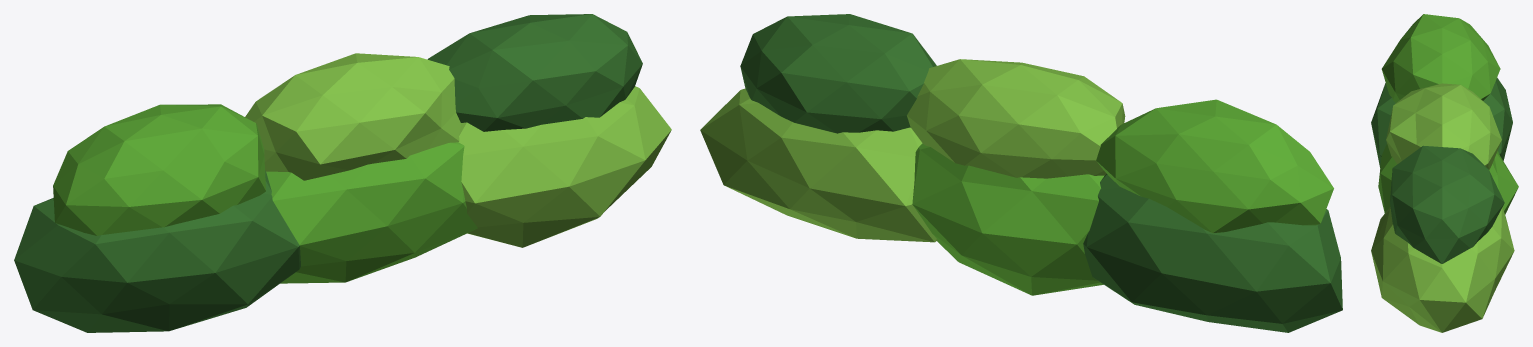
Rendered from hedge_straight_1.glb.
The picture shows the model from 3 angles, left to right: view 1: azimuth 30°, elevation 25°; view 2: azimuth 150°, elevation 25°; view 3: azimuth 270°, elevation 25°; orthographic projection. The views are drawn at different scales.
Visible parts, largest first — view 1: hedge_straight_1; view 2: hedge_straight_1; view 3: hedge_straight_1.
Part boxes in pixels (x1=…): hedge_straight_1: x1=14, y1=14, x2=671, y2=332; hedge_straight_1: x1=700, y1=14, x2=1342, y2=332; hedge_straight_1: x1=1371, y1=14, x2=1518, y2=332.
Size of what is drawn, in the model's own units: 4.79 by 1.52 by 1.3.
